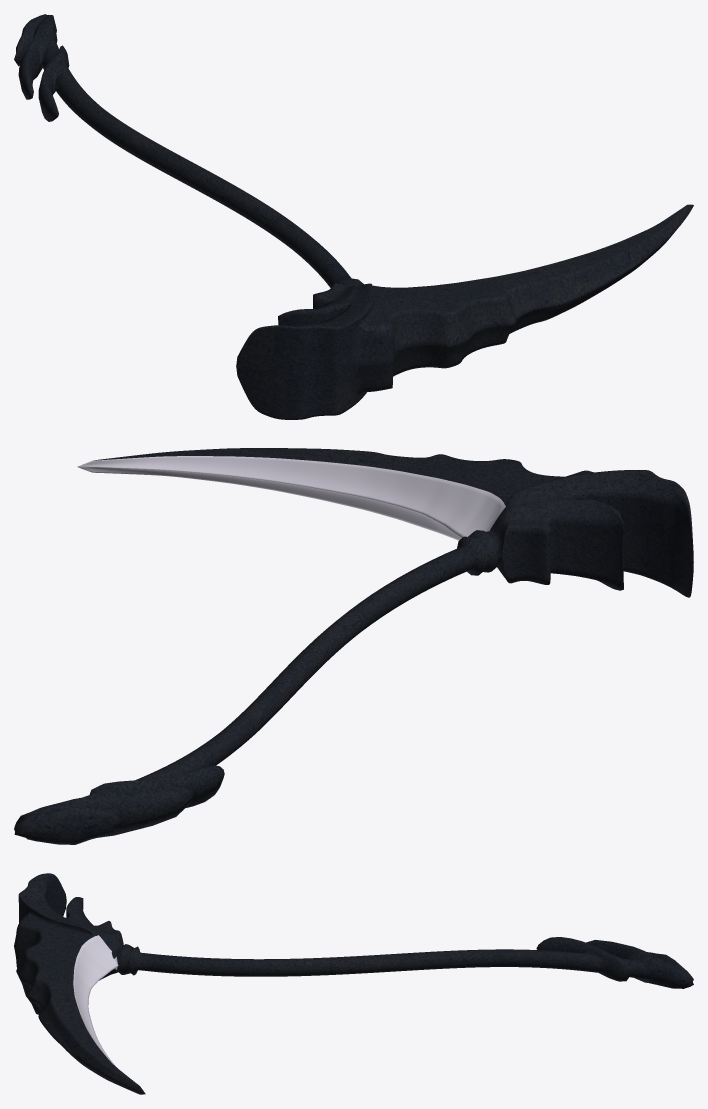
3 views of the same model, one above another, from view 1: azimuth 30°, elevation 25°; view 2: azimuth 150°, elevation 25°; view 3: azimuth 270°, elevation 25° (orthographic). The views are drawn at different scales.
Visible parts, largest first — view 1: Scythe; view 2: Scythe; view 3: Scythe.
Boxes of the visible parts, box(x1,y1,x2,y2) form: Scythe: box(14, 14, 693, 419); Scythe: box(14, 448, 693, 844); Scythe: box(14, 873, 693, 1094).
Bounding box in the file's own units: 311 × 54.32 × 462.
